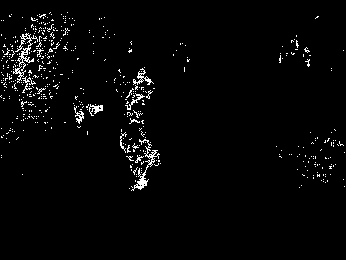person: (120, 118, 160, 191), (128, 67, 152, 121)
